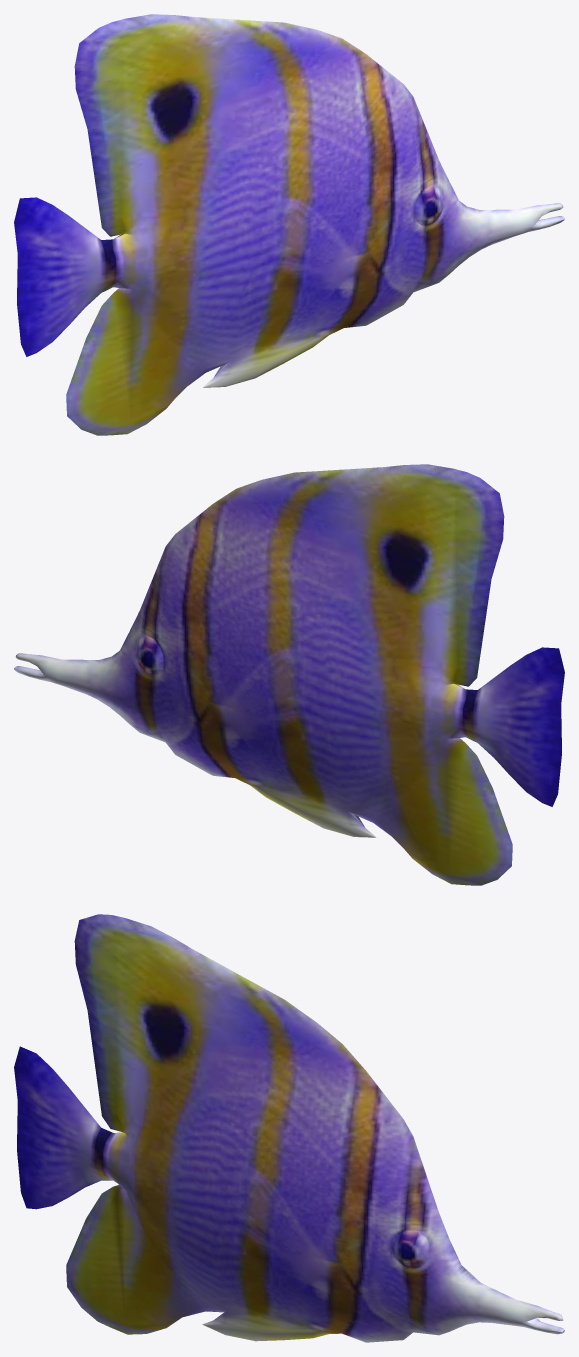
Rendered from butterflyfish.glb.
3 renders of one model, top to bottom at view 1: azimuth 30°, elevation 25°; view 2: azimuth 150°, elevation 25°; view 3: azimuth 330°, elevation 25°, orthographic.
Visible parts, largest first — view 1: Object_2; view 2: Object_2; view 3: Object_2.
Boxes of the visible parts, x1,y1,x2,y2 form: Object_2: [14, 14, 564, 435]; Object_2: [14, 464, 564, 885]; Object_2: [14, 914, 564, 1342].
Size of the model in its own units: 0.2651 by 0.1916 by 0.0316.
1 material, 1 textured.
